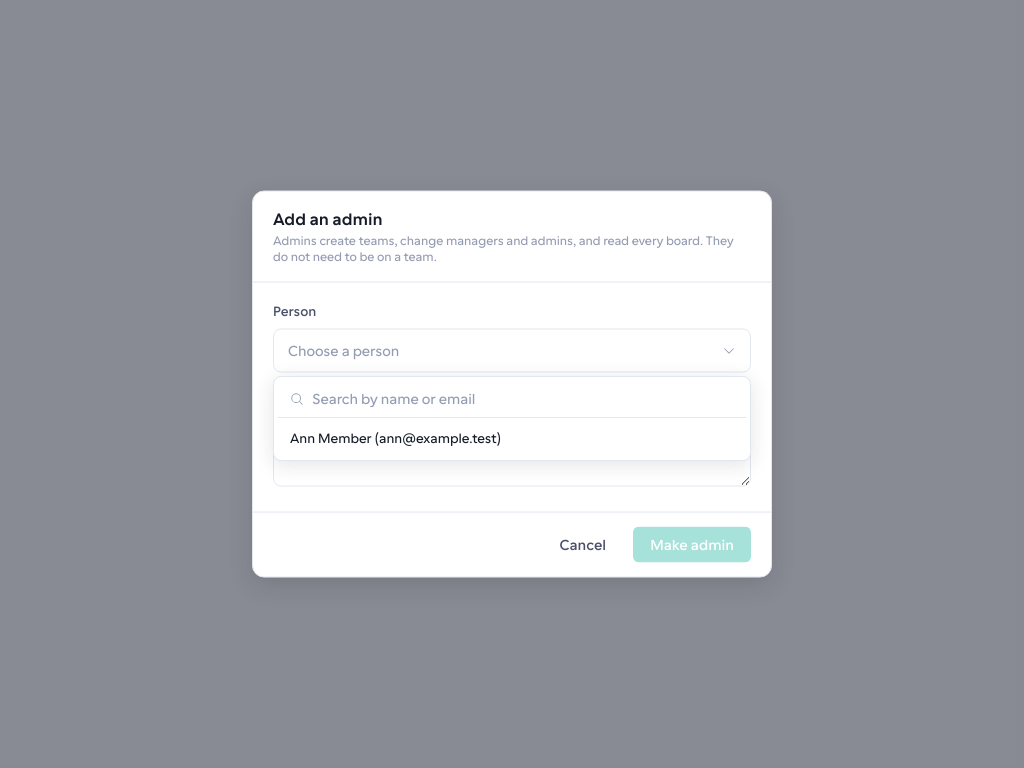
Test: AddAdminDialog › refuses to submit before a person is chosen
Press Escape
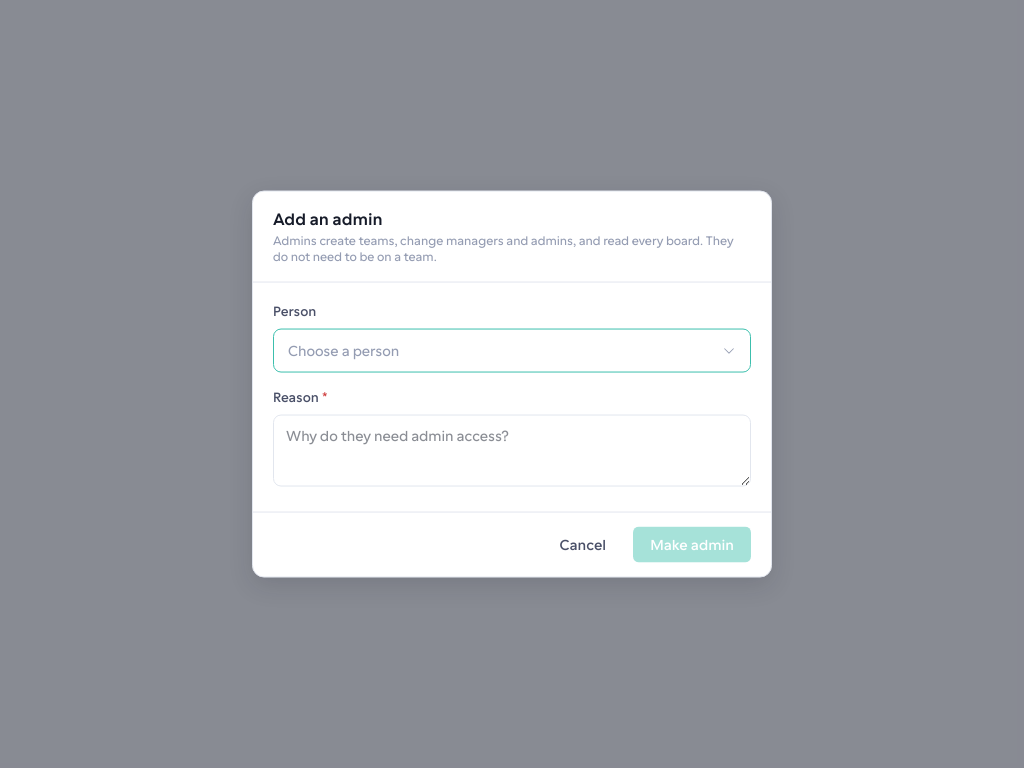
Type "because" into the text box labelled "Reason *".
click(512, 450); type("because")  # box x1=273 y1=414 x2=751 y2=486
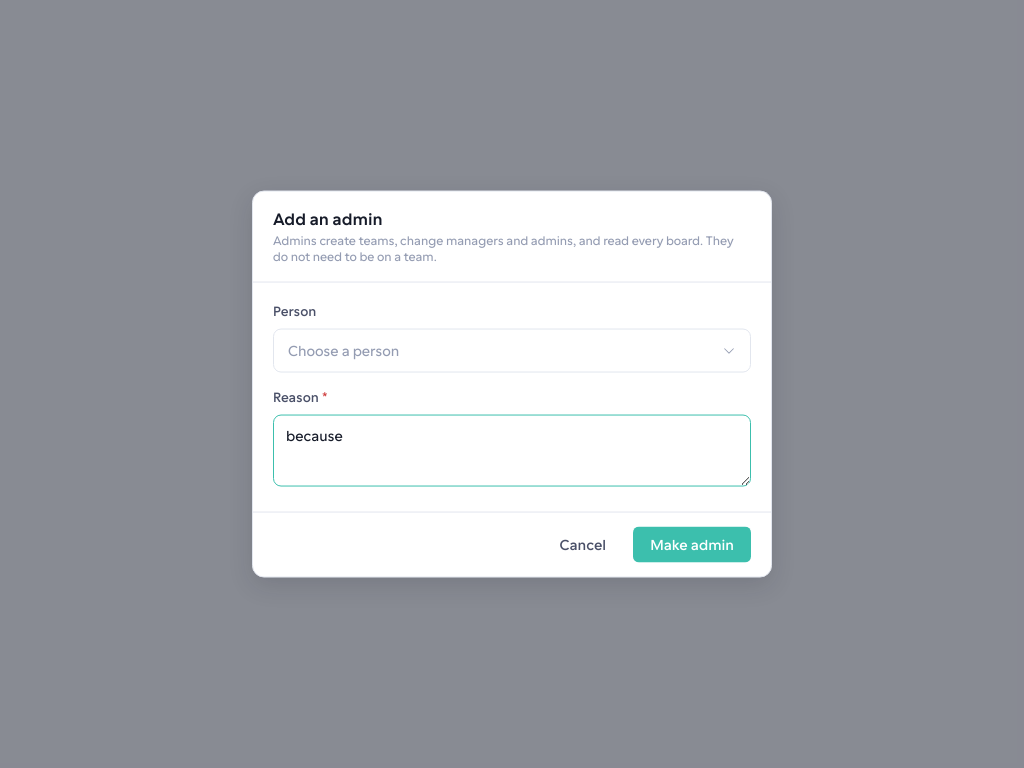
Click the button "Make admin".
click(692, 544)  # box x1=633 y1=526 x2=751 y2=562
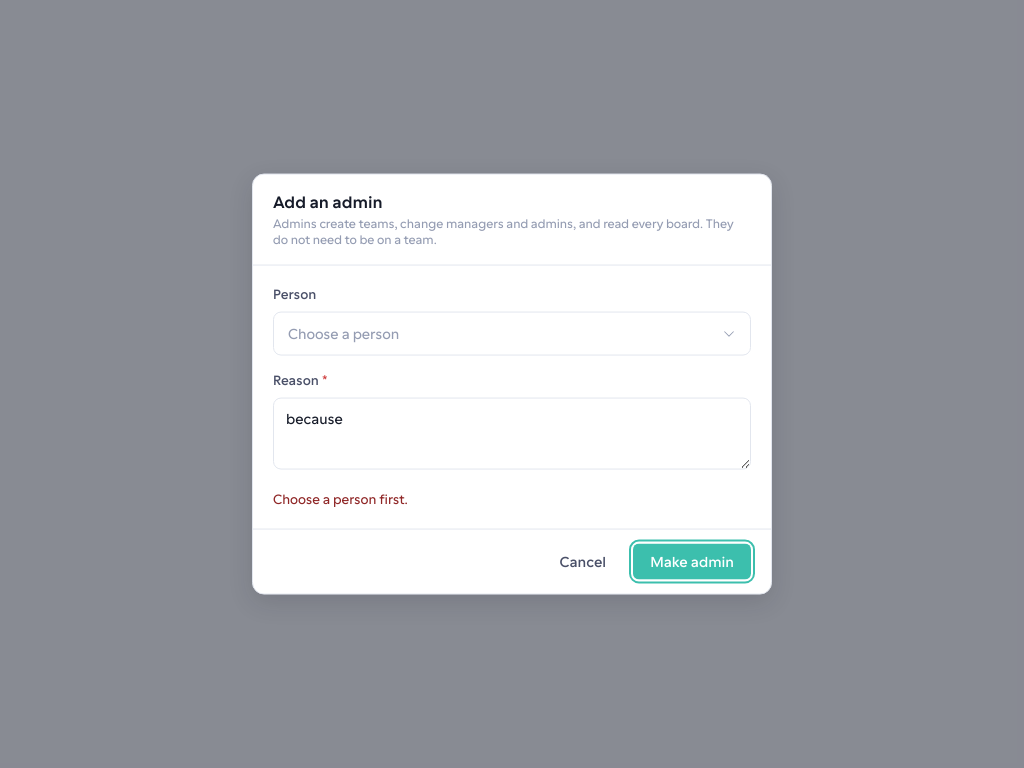
Check: the message reads "Choose a person first.", box x1=273 y1=492 x2=408 y2=506
